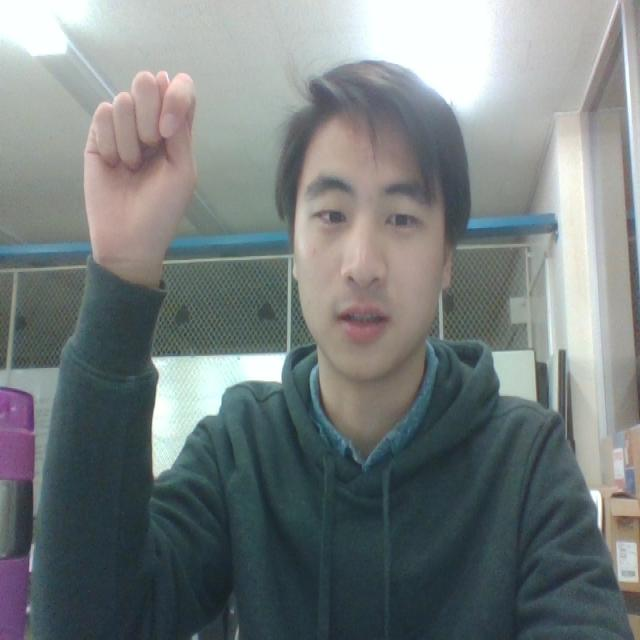T: (70, 42, 237, 290)
